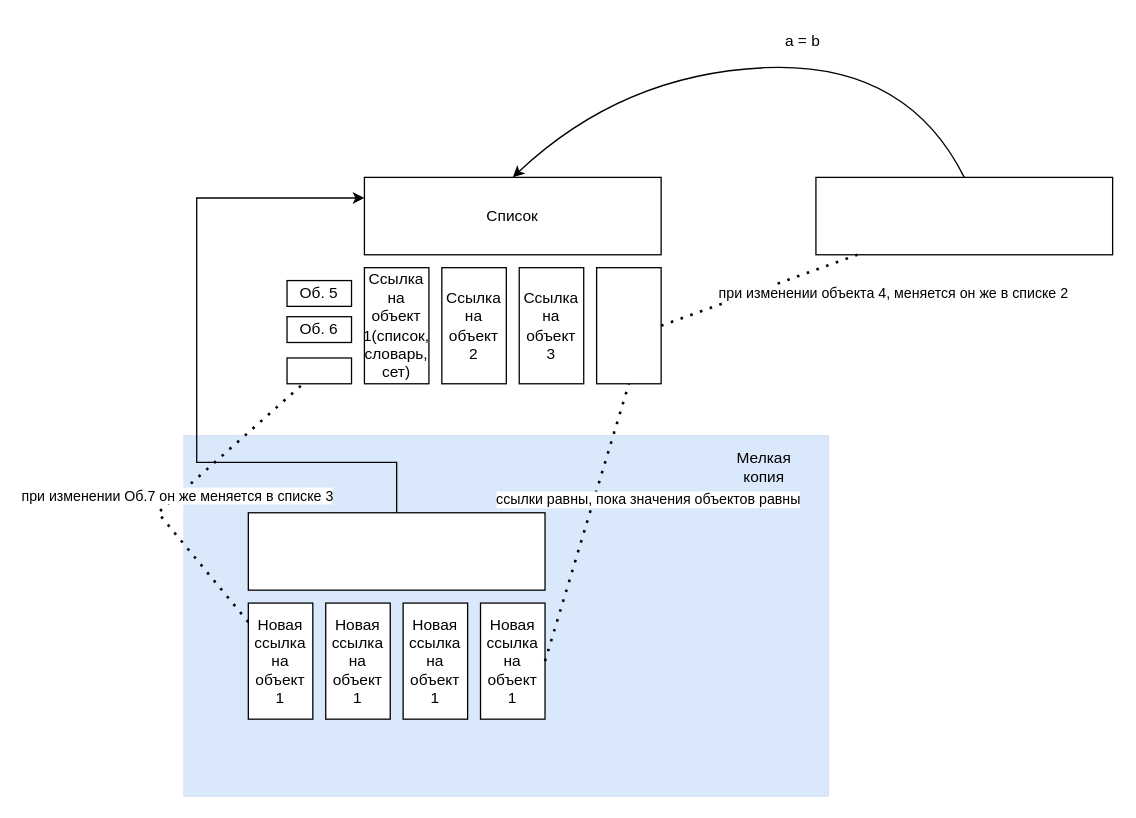
Some shapes in this 1136 by 818 pixel diagram are drawn without their labels. The shapes that lost their labels are listed below. From the top down, each one's box as (x1, y1, x2, y2) in pixels, then its label:
(815, 176, 1113, 255): Список 2
(595, 266, 661, 384): Ссылка на объект 4
(286, 357, 352, 384): Об. 7
(247, 511, 545, 590): Список 3
